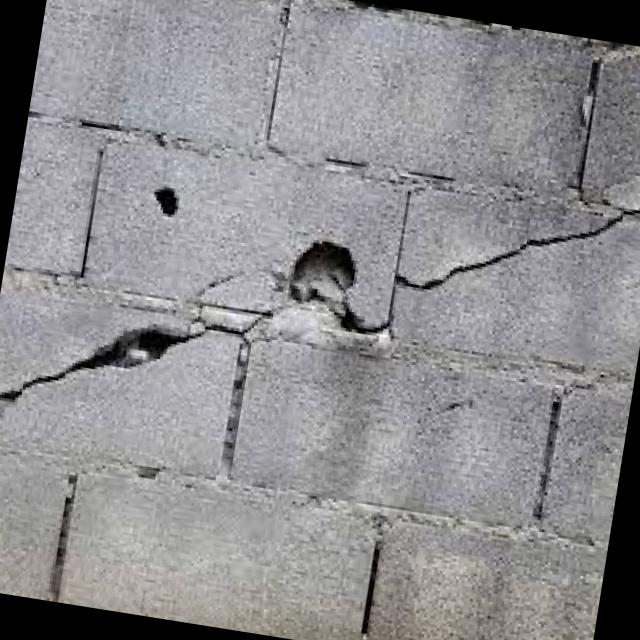crack: (0, 173, 401, 467), (392, 160, 640, 328), (562, 41, 640, 219)
